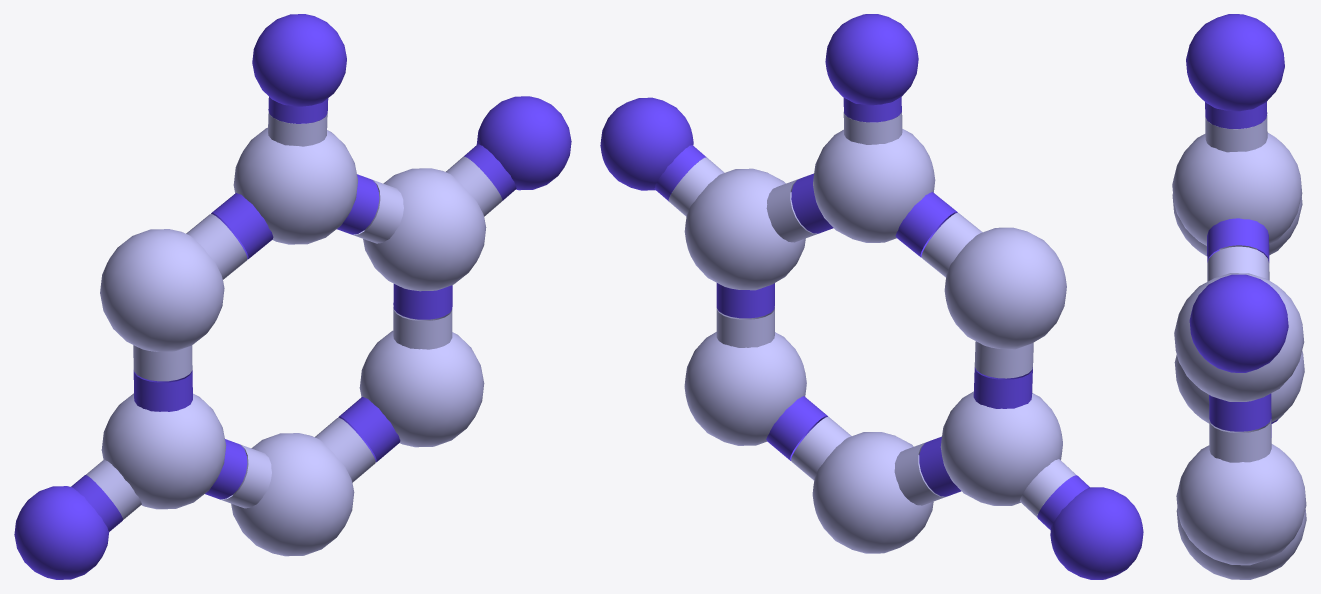
3 views of the same model, side by side, from view 1: azimuth 30°, elevation 25°; view 2: azimuth 150°, elevation 25°; view 3: azimuth 270°, elevation 25° (orthographic). The views are drawn at different scales.
Visible parts, largest first — view 1: Empty.001; view 2: Empty.001; view 3: Empty.001.
Boxes of the visible parts, x1=… form: Empty.001: x1=14, y1=14, x2=571, y2=579; Empty.001: x1=600, y1=14, x2=1143, y2=579; Empty.001: x1=1172, y1=14, x2=1306, y2=579.
Size of the model in its own units: 0.6527 by 0.615 by 0.1345.
